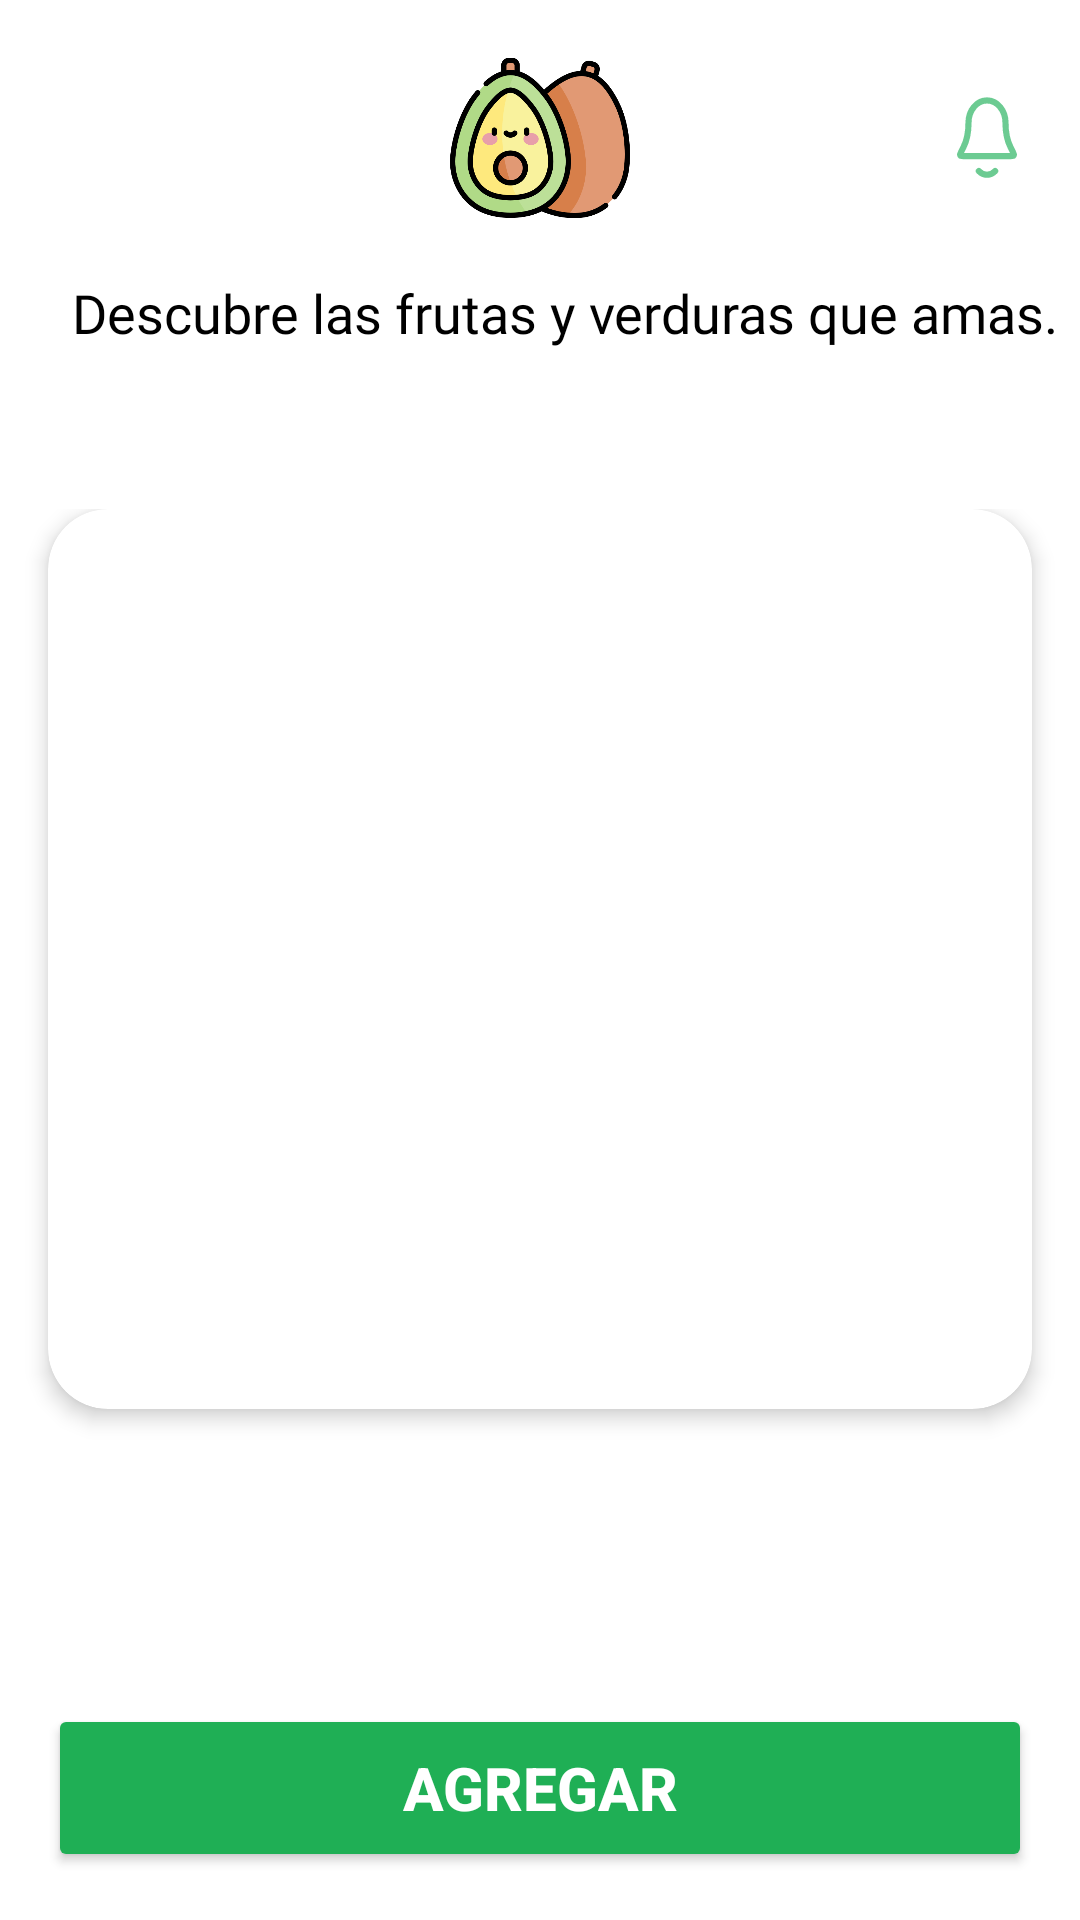

Where to tap for icons on this 1080 × 1920 app screen, as (x=x, y=y):
Notificaciones: (x=987, y=137)
